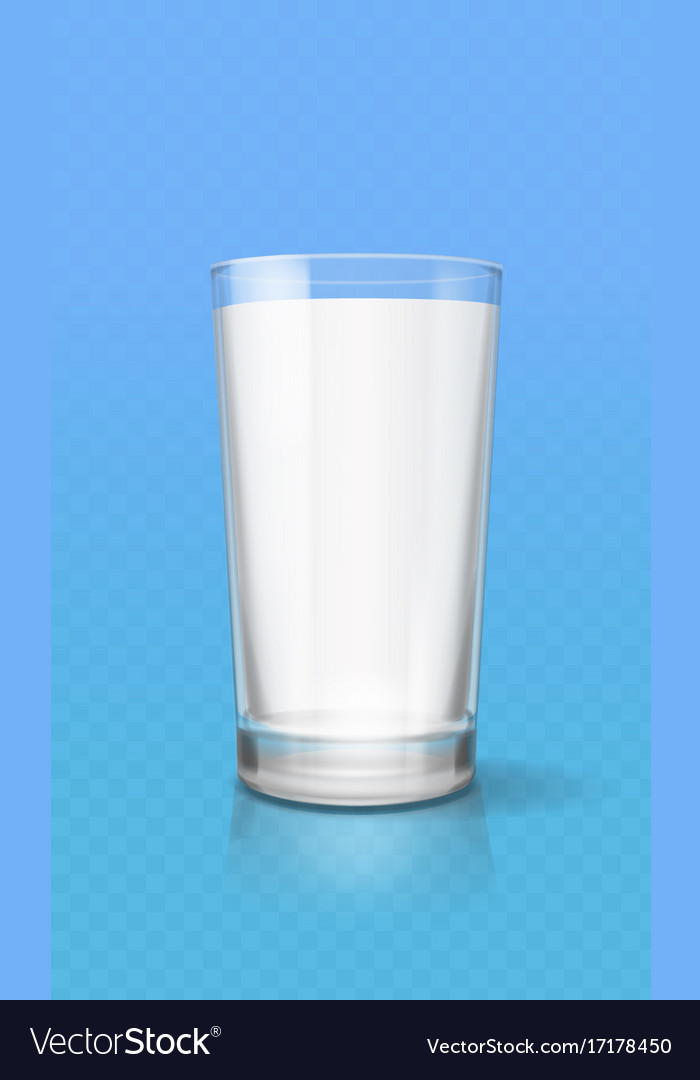glass of milk: (222, 266, 492, 783)
